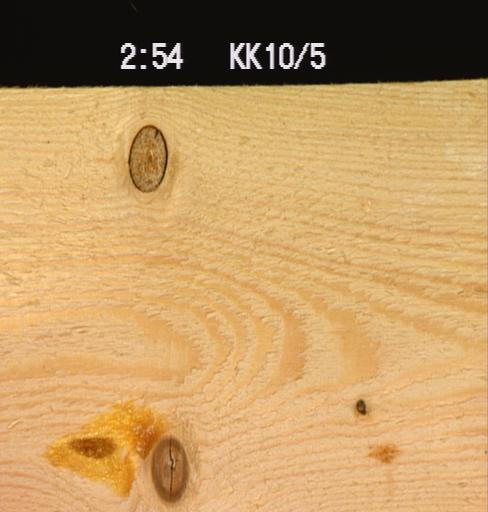dry_knot: (125, 123, 167, 193)
sound_knot: (148, 433, 189, 504)
